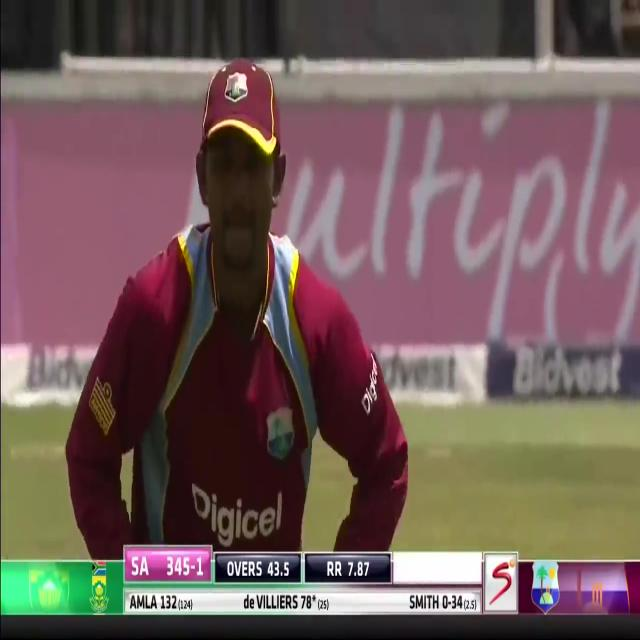Fielder: (121, 51, 374, 552)
